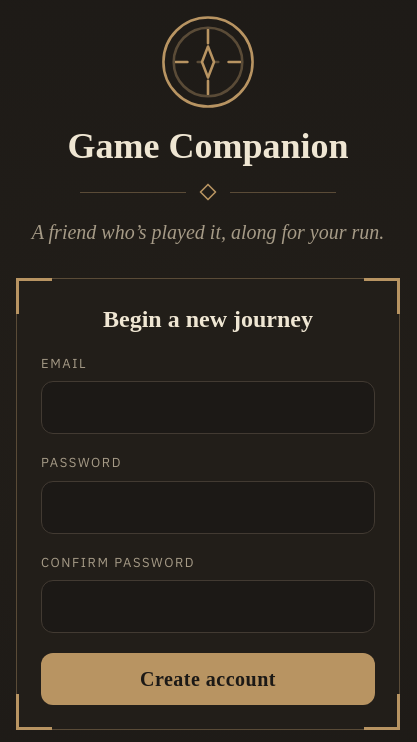
CreateAccountPage › creates the account, signs it in and goes home
Expected: the heading "Begin a new journey" is shown, [103,306,313,332]
In the field labelled "Email": x=208, y=408 [41,381,375,434], type "tarnished@example.com"
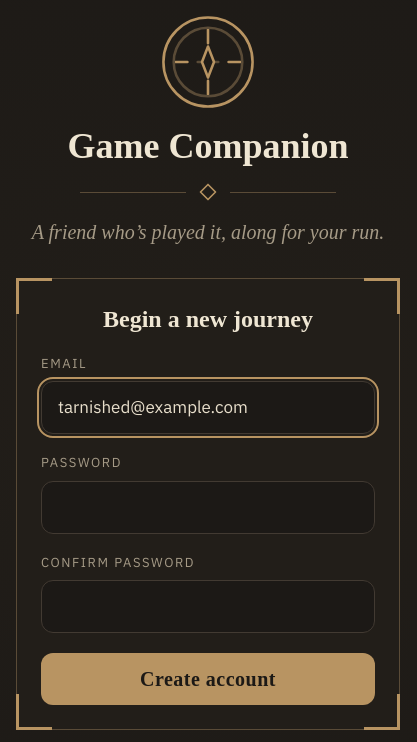
In the password field labelled "Password": x=208, y=507 [41,481,375,534], type "long-enough"
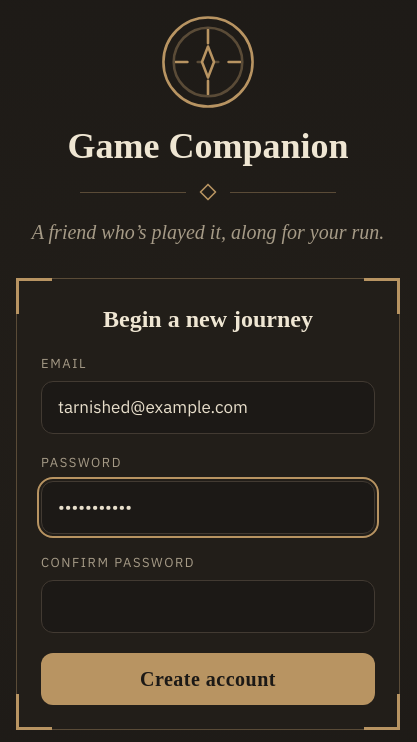
In the password field labelled "Confirm password": x=208, y=606 [41,580,375,633], type "long-enough"
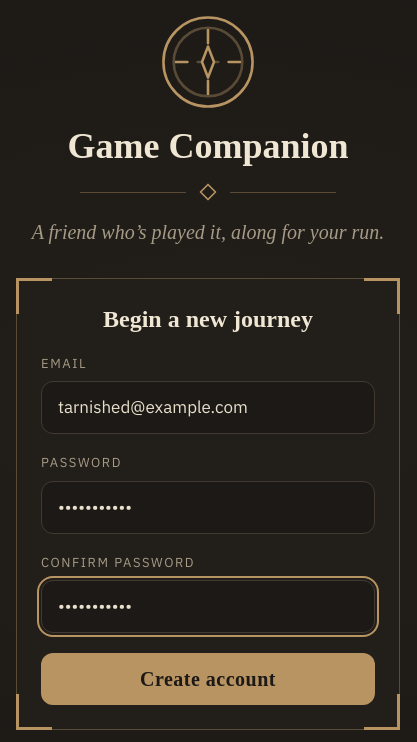
Click the button "Create account": x=208, y=679 [41,653,375,705]
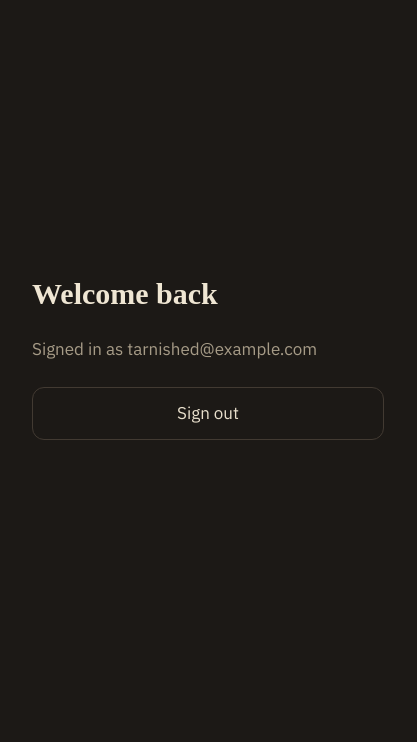
Result: the text "Signed in as tarnished@example.com" is shown at [32,338,317,360]
